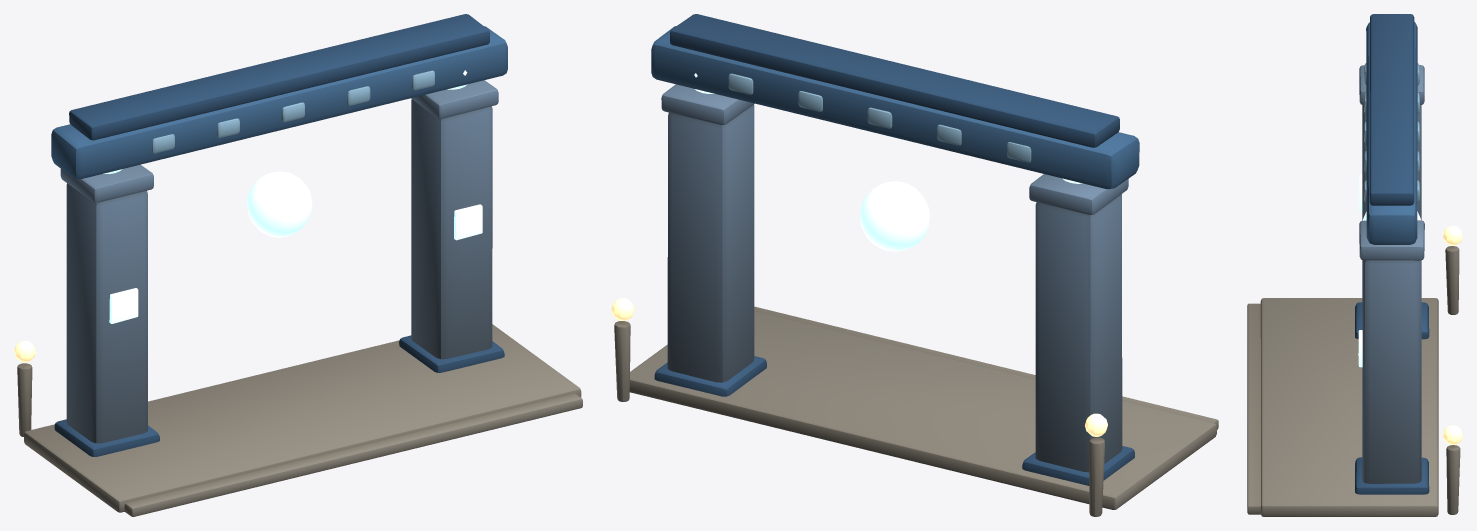
3 renders of one model, left to right at view 1: azimuth 30°, elevation 25°; view 2: azimuth 150°, elevation 25°; view 3: azimuth 270°, elevation 25°, orthographic. The views are drawn at different scales.
Parts seen in each view (by area): view 1: gate_2efc2fcd; view 2: gate_2efc2fcd; view 3: gate_2efc2fcd.
Boxes of the visible parts, bbox=[...] form: gate_2efc2fcd: bbox=[14, 14, 582, 516]; gate_2efc2fcd: bbox=[611, 14, 1218, 516]; gate_2efc2fcd: bbox=[1247, 14, 1462, 516].
Size of the model in its own units: 5.84 by 4.06 by 2.55.
